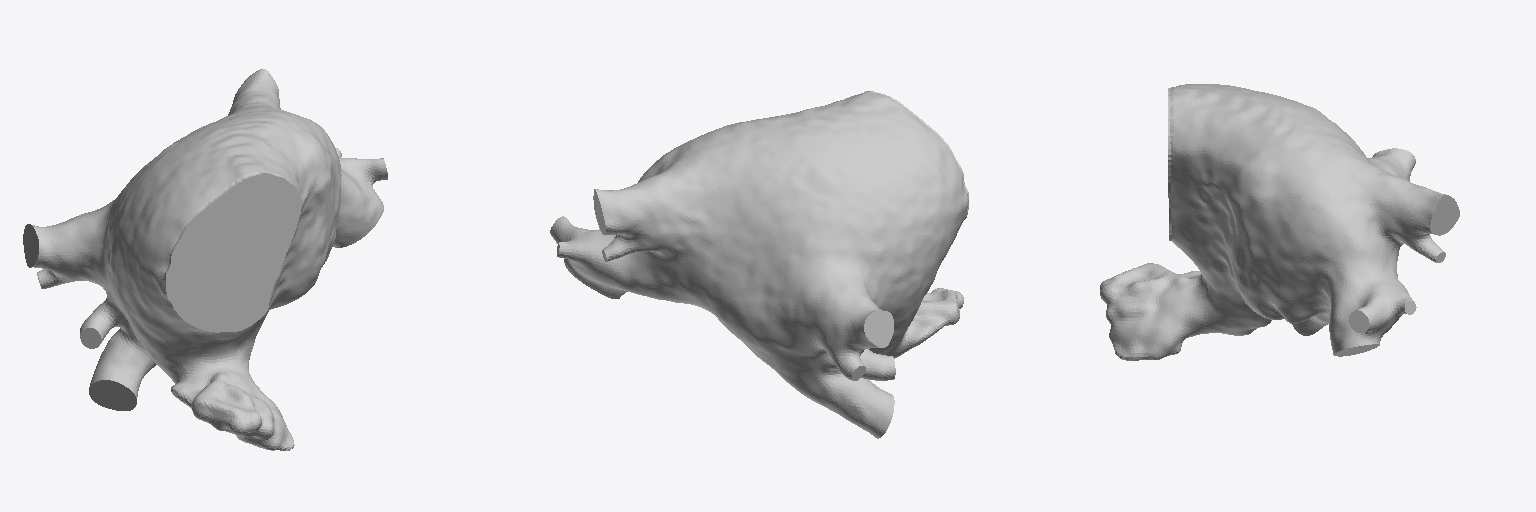
Rendered from Case210.obj.
The picture shows the model from 3 angles: view 1: azimuth 30°, elevation 25°; view 2: azimuth 150°, elevation 25°; view 3: azimuth 270°, elevation 25°; orthographic projection.
Bounding box in the file's own units: 89.21 × 67.66 × 80.46.